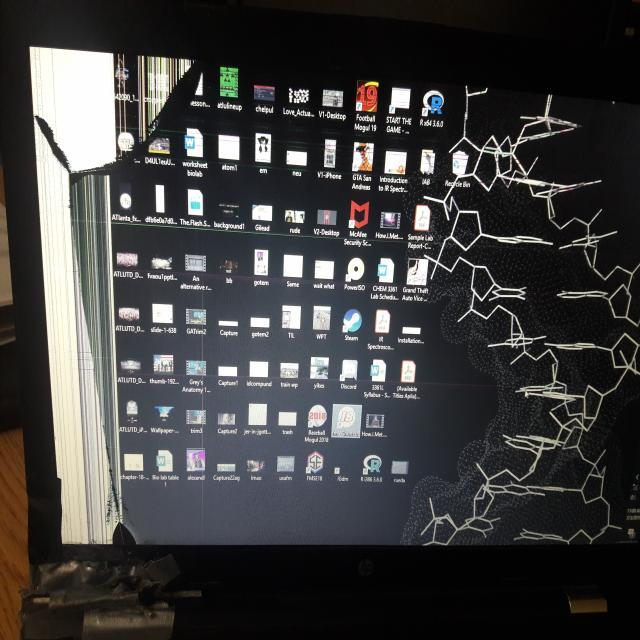Screen cracks: (28, 44, 210, 562)
